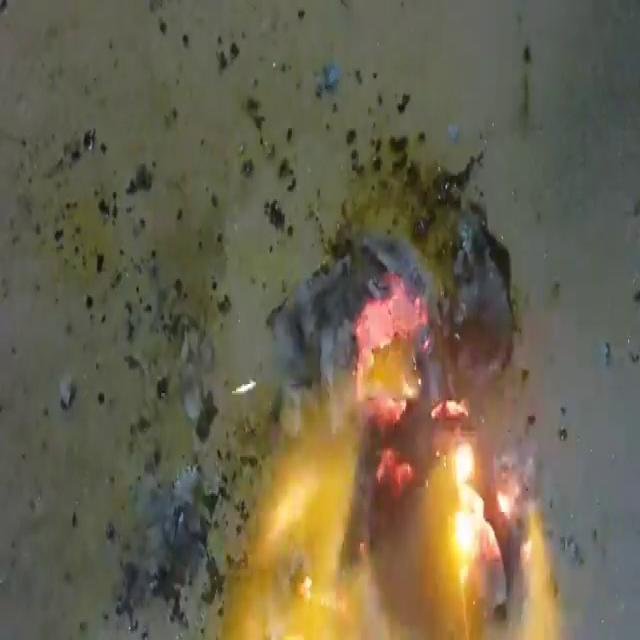Fire: (169, 76, 587, 638)
